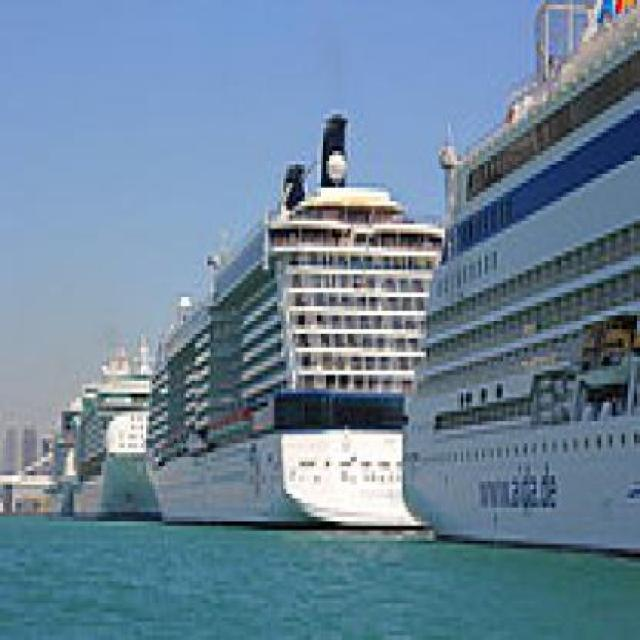cruise: (135, 110, 489, 541)
